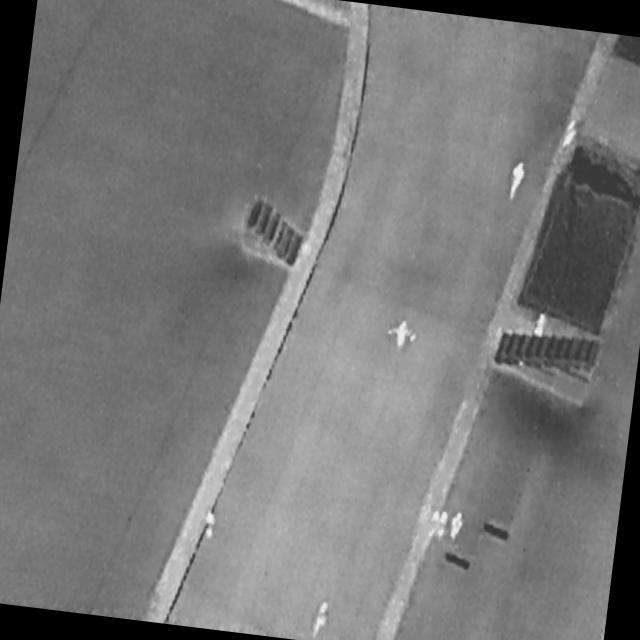person: (383, 313, 421, 356), (505, 157, 530, 208), (310, 597, 333, 640), (558, 114, 582, 154), (447, 507, 466, 544), (530, 309, 551, 342), (201, 507, 220, 543), (427, 506, 442, 541), (437, 508, 450, 539)
